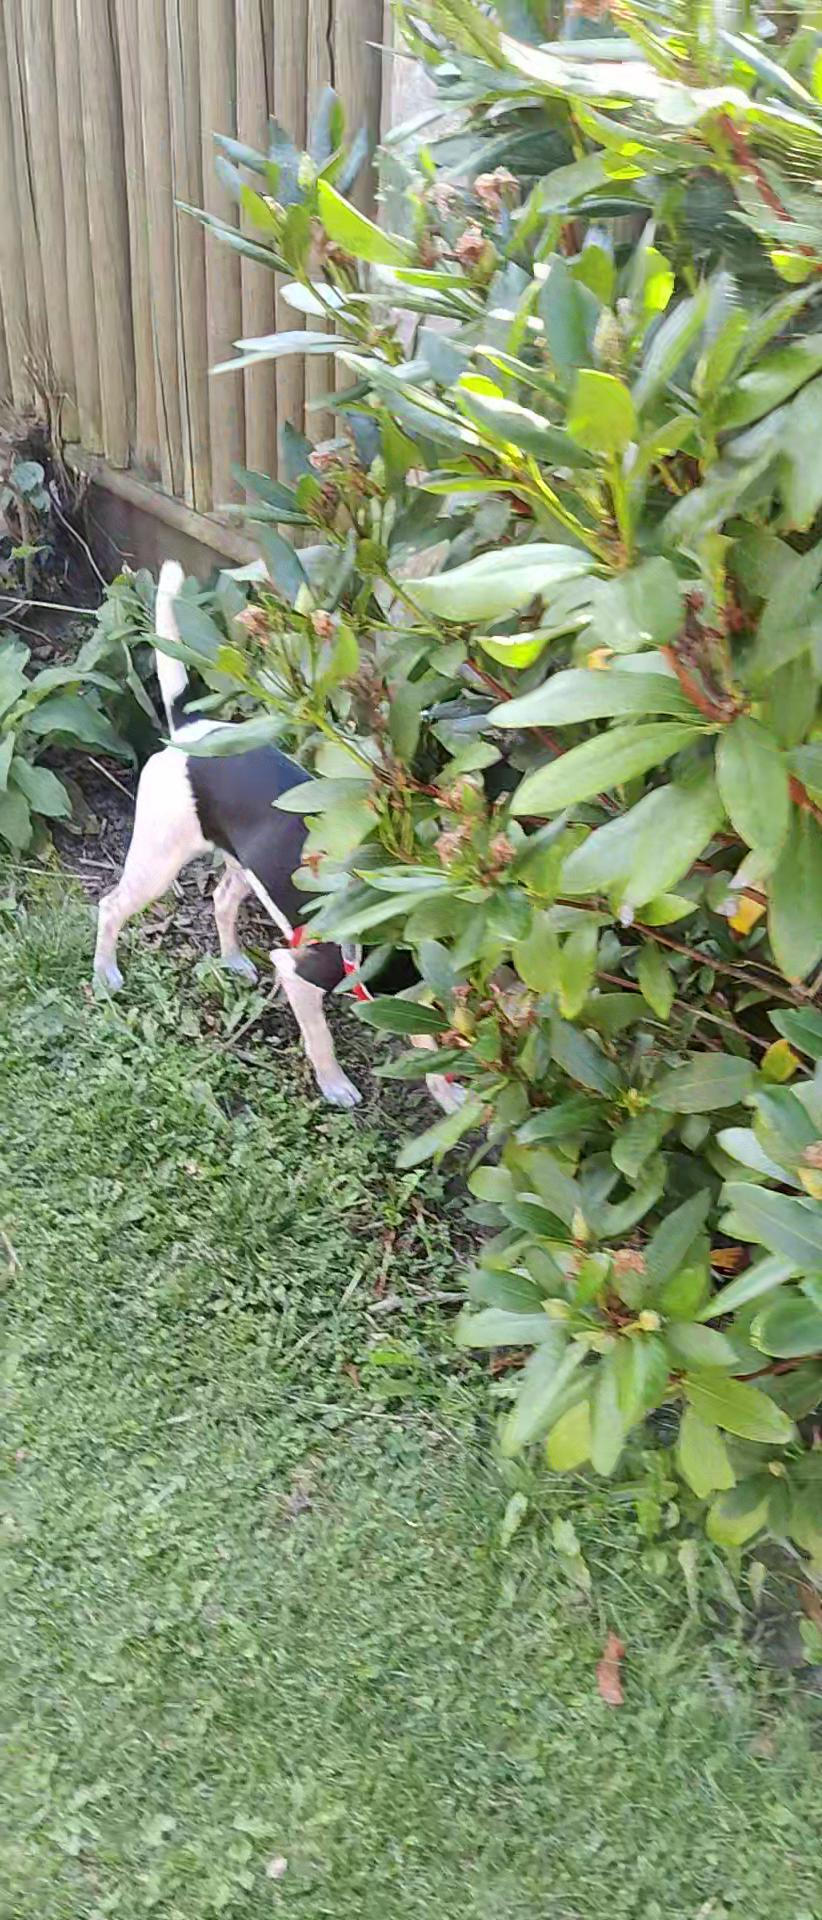Dog: (66, 547, 519, 1138)
